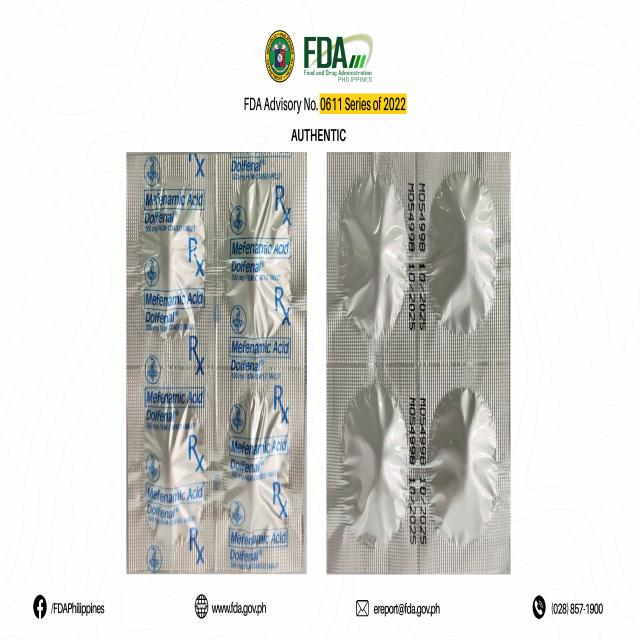authentic: (322, 148, 513, 582), (126, 145, 306, 574)
